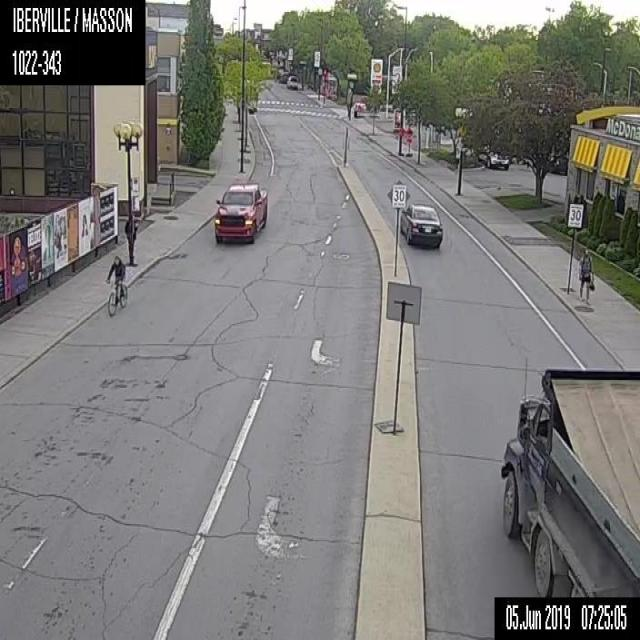construction: (400, 126, 415, 158)
cyclist: (106, 253, 128, 316)
pedestrian: (123, 211, 138, 265), (578, 246, 592, 302)
vehicle: (499, 365, 639, 596), (211, 179, 267, 245), (398, 200, 444, 247), (477, 143, 510, 170), (544, 148, 569, 174), (287, 75, 298, 89)
